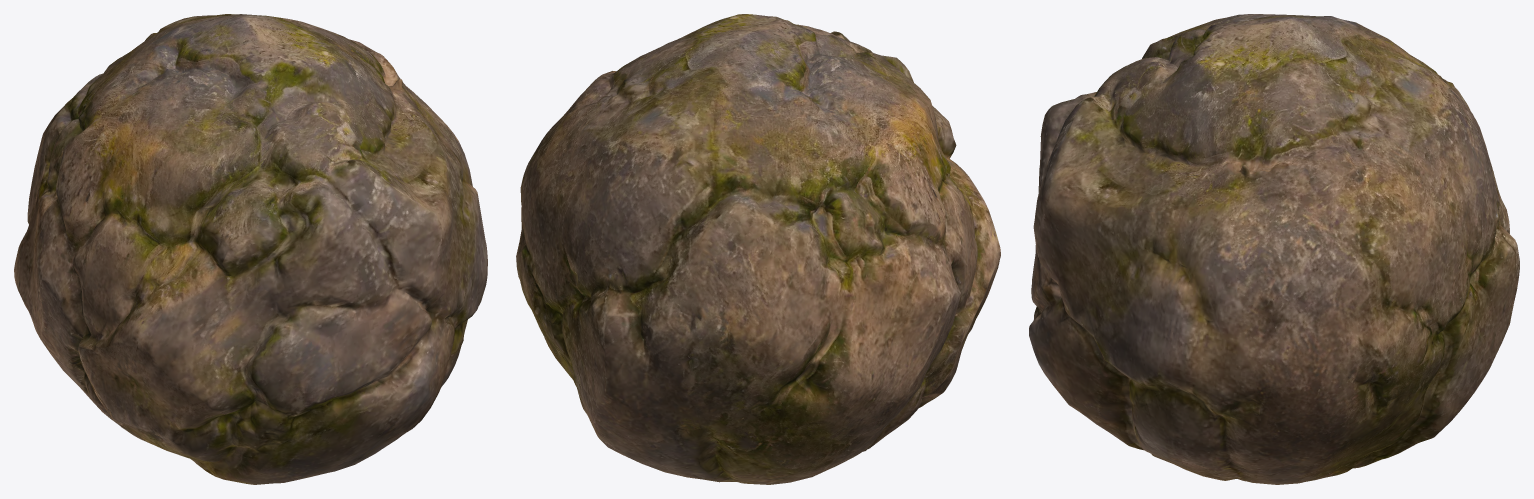
Rendered from roca.glb.
3 views of the same model, side by side, from view 1: azimuth 30°, elevation 25°; view 2: azimuth 150°, elevation 25°; view 3: azimuth 270°, elevation 25° (orthographic). The views are drawn at different scales.
Parts seen in each view (by area): view 1: tripo_node_a3934cdf-7f57-4586-b4ab-d0f415768941; view 2: tripo_node_a3934cdf-7f57-4586-b4ab-d0f415768941; view 3: tripo_node_a3934cdf-7f57-4586-b4ab-d0f415768941.
Part boxes in pixels (<box>): tripo_node_a3934cdf-7f57-4586-b4ab-d0f415768941: <box>14,14,487,484</box>; tripo_node_a3934cdf-7f57-4586-b4ab-d0f415768941: <box>516,14,1000,484</box>; tripo_node_a3934cdf-7f57-4586-b4ab-d0f415768941: <box>1029,14,1519,484</box>.
Bounding box in the file's own units: 0.9874 × 0.9809 × 0.9995.
Materials: 1 (1 with a texture image).
